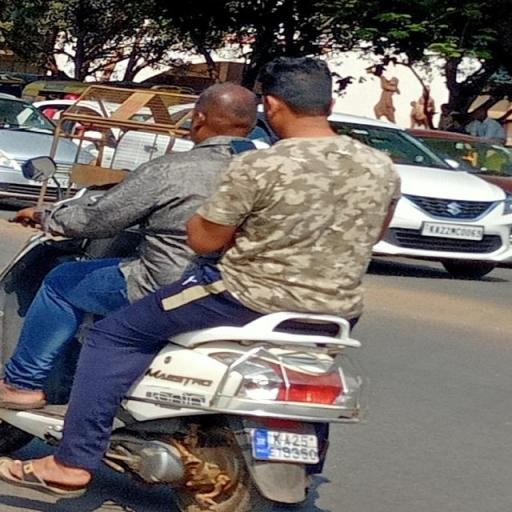bike: (7, 48, 406, 510)
numberplate: (256, 428, 324, 468)
withouthelmet: (264, 58, 334, 132), (198, 86, 254, 140)
